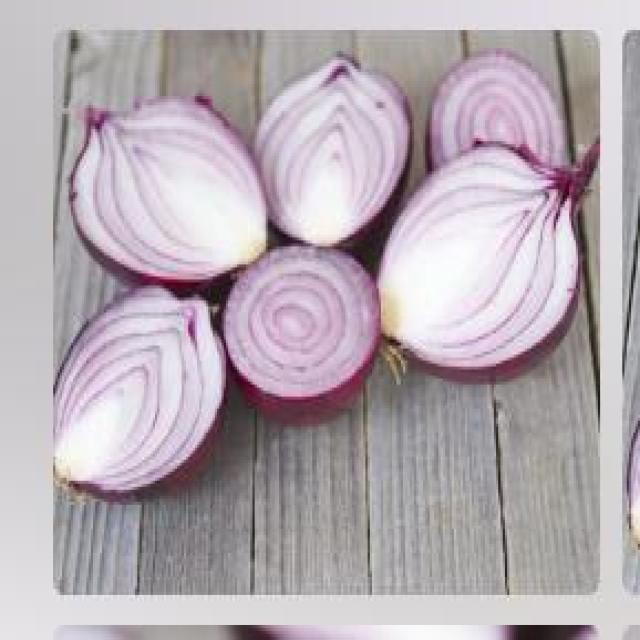Onion: (366, 135, 582, 382), (44, 284, 208, 521), (66, 95, 266, 287), (259, 45, 412, 249), (224, 246, 372, 421), (425, 45, 560, 171)
